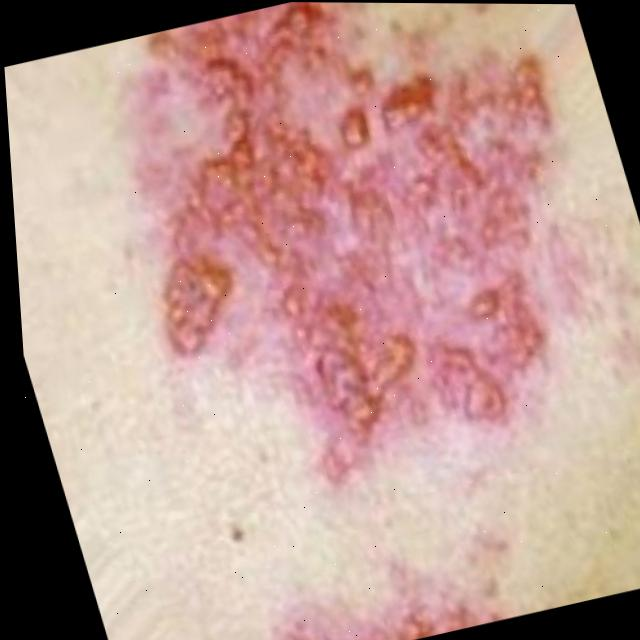Shingles: (67, 0, 640, 509), (261, 565, 513, 640)
